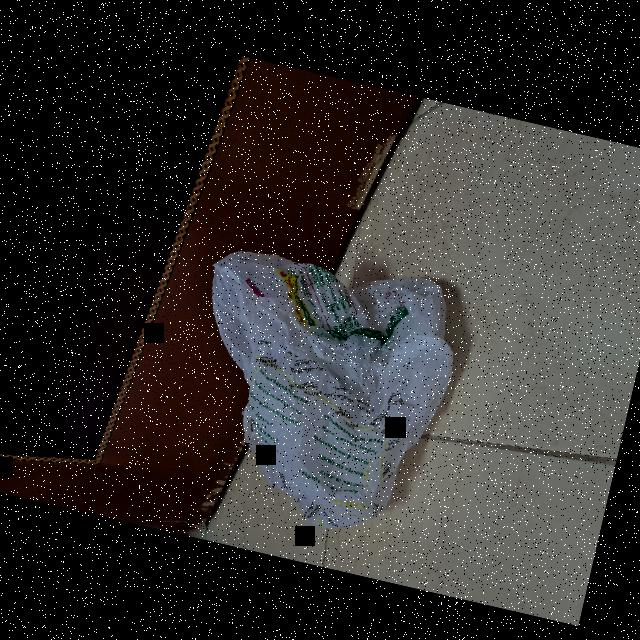plastic_bag: (150, 227, 472, 546)
